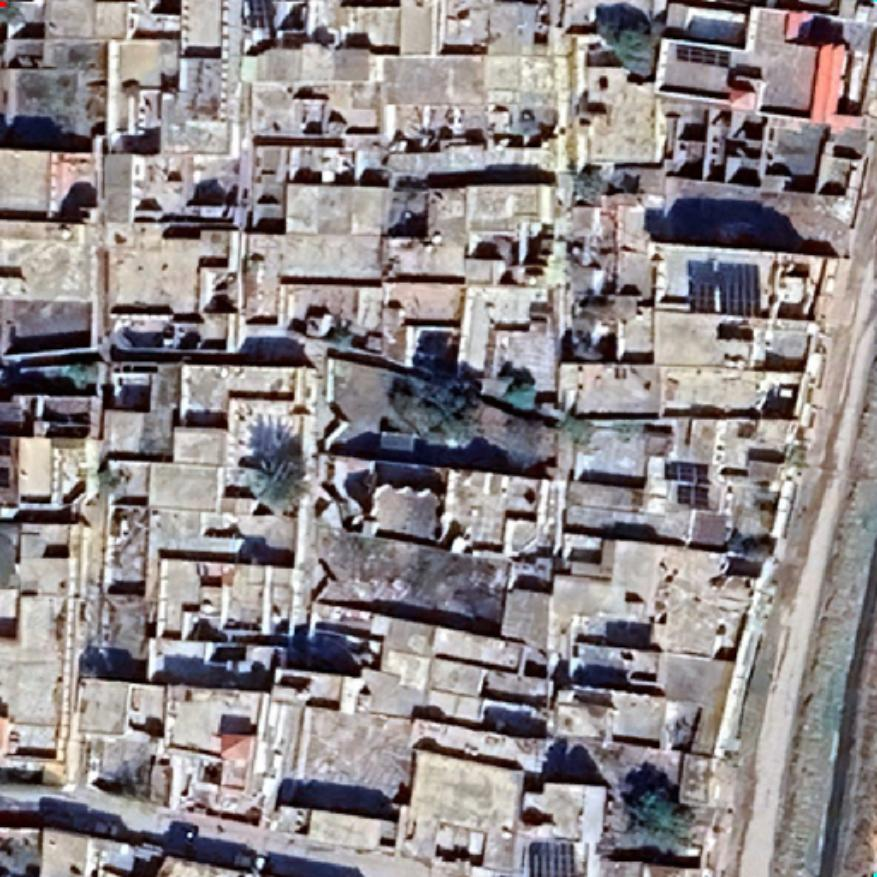Solarpanel: (684, 260, 766, 322), (660, 455, 714, 512), (526, 836, 582, 876), (672, 39, 734, 72)
